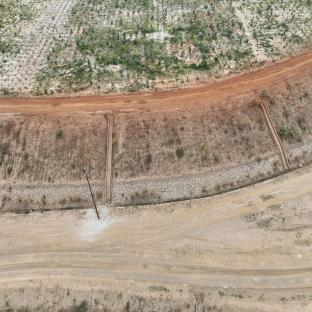rock_toe: (112, 153, 283, 204), (0, 184, 105, 210), (287, 142, 312, 167)
slope_drain: (256, 95, 290, 170), (105, 115, 114, 203)
toe_drain: (0, 159, 312, 214)
